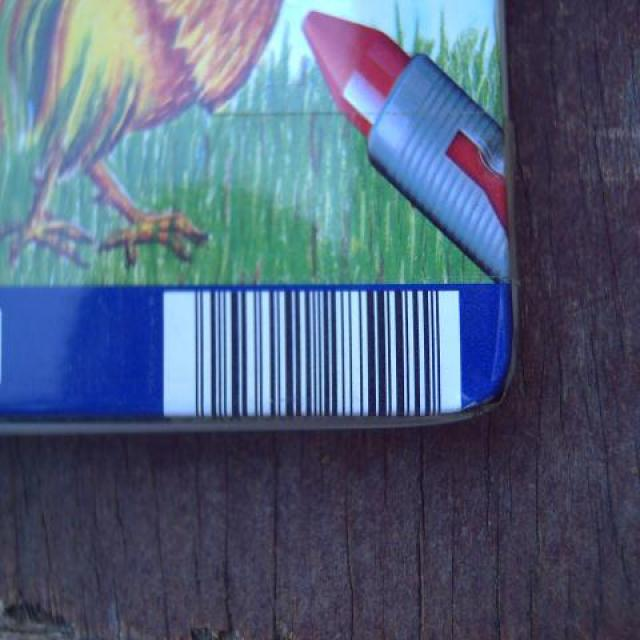Barcode: (160, 283, 476, 424)
